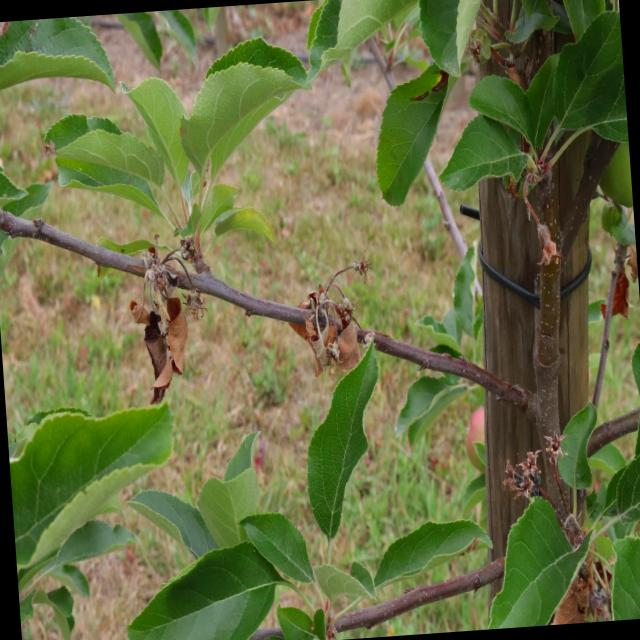-FireBlight-: (128, 266, 190, 400), (298, 291, 371, 377), (556, 562, 608, 624), (612, 247, 640, 322)
